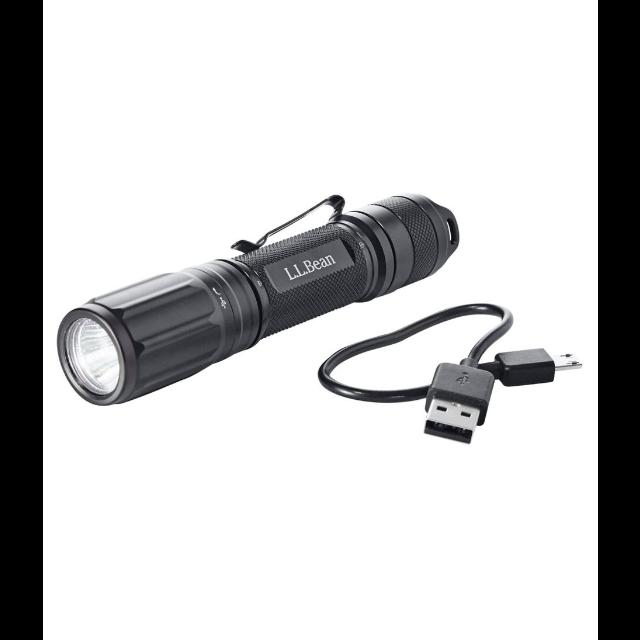Flashlight: (49, 180, 464, 414)
